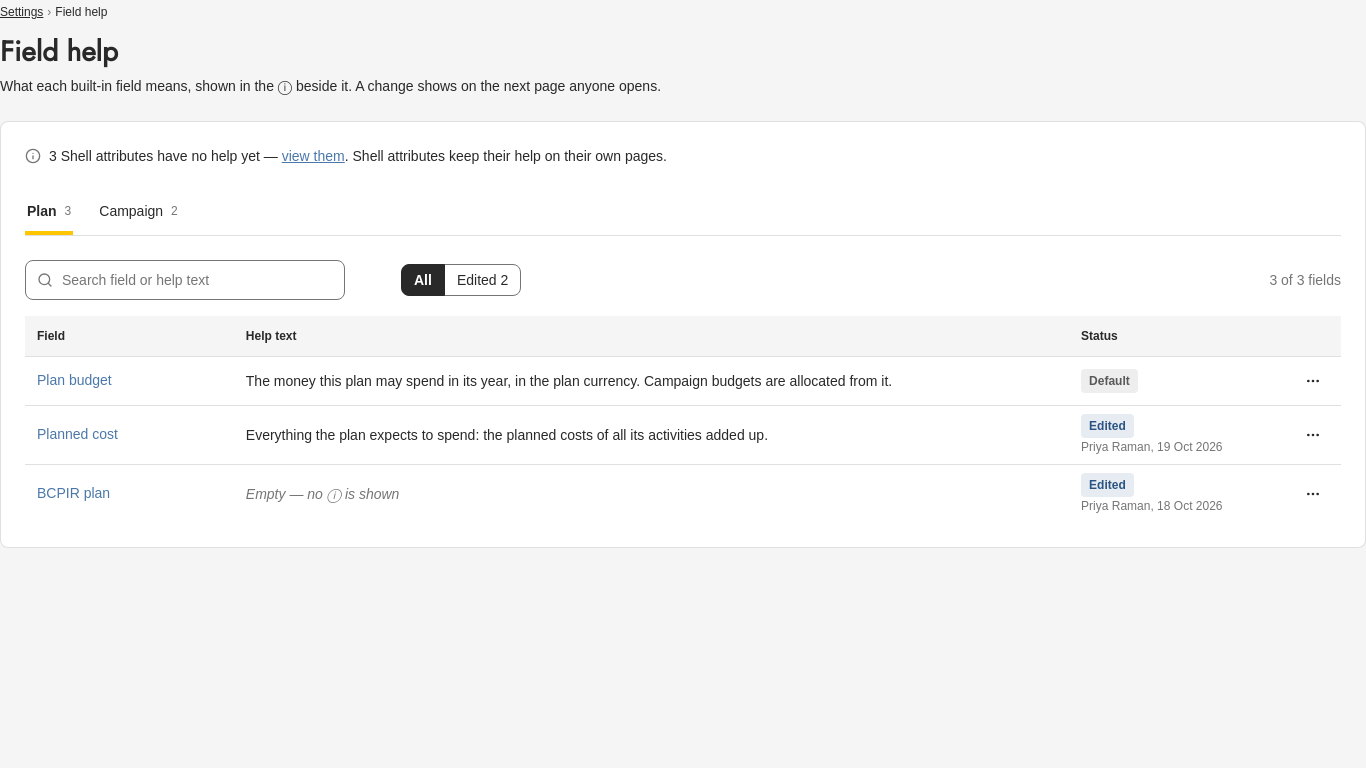
Scenario: FieldHelpPage: edit and reset (016 FR-046) › resets an edited text to the default after asking (US7-3)
expect the table is shown: met, box [25,316,1341,522]
Click the button named "Actions for Planned cost" at (1313, 434), box [1297,418,1329,450]
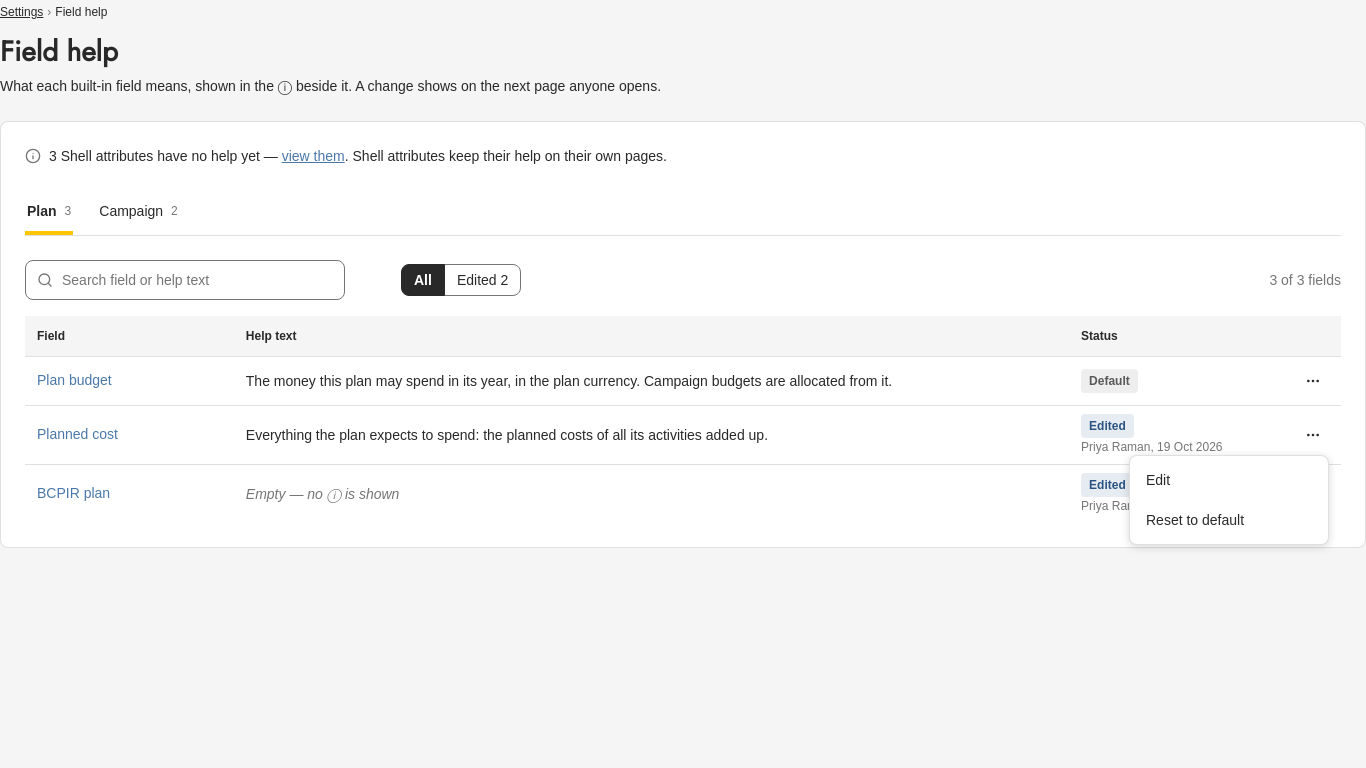
Click the menu item "Reset to default" at (1195, 520), box [1146,512,1244,528]
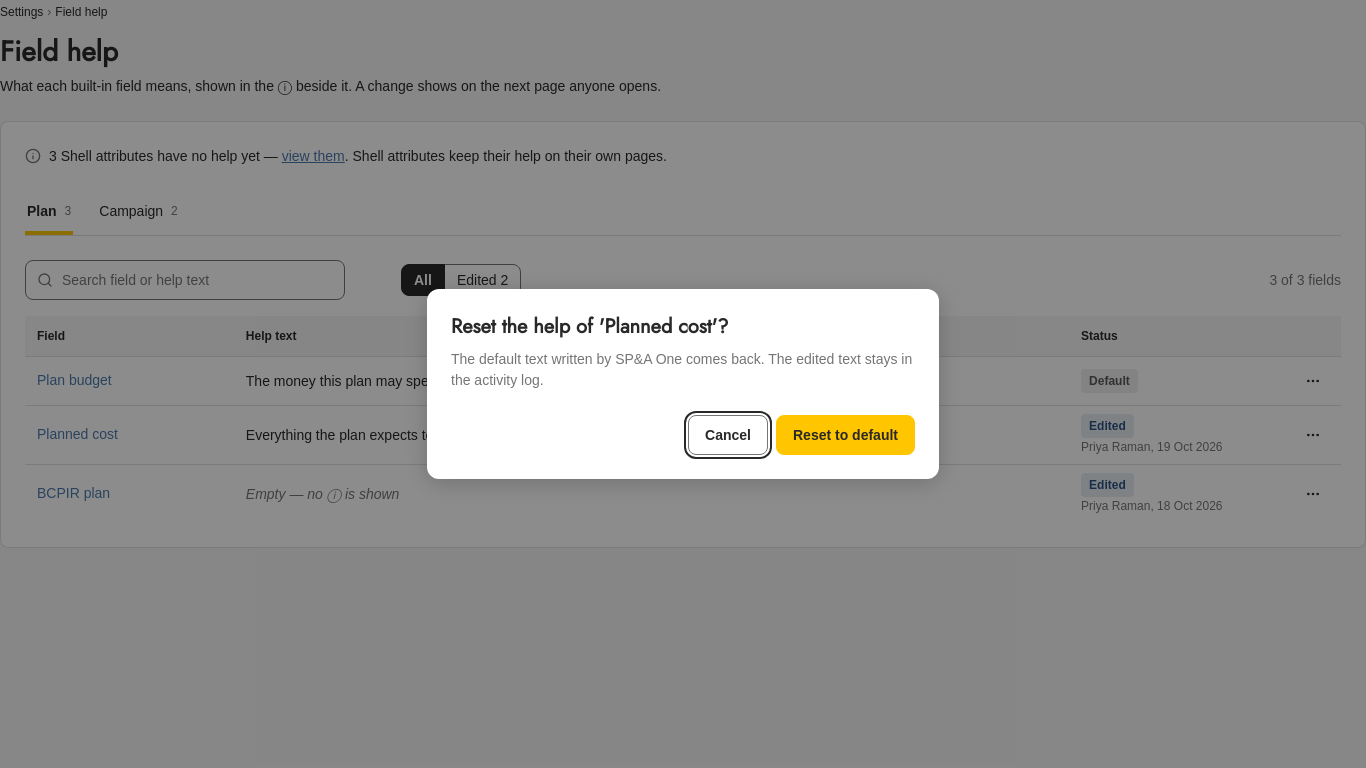
Click the button "Reset to default" at (846, 435), box [776,415,915,455]
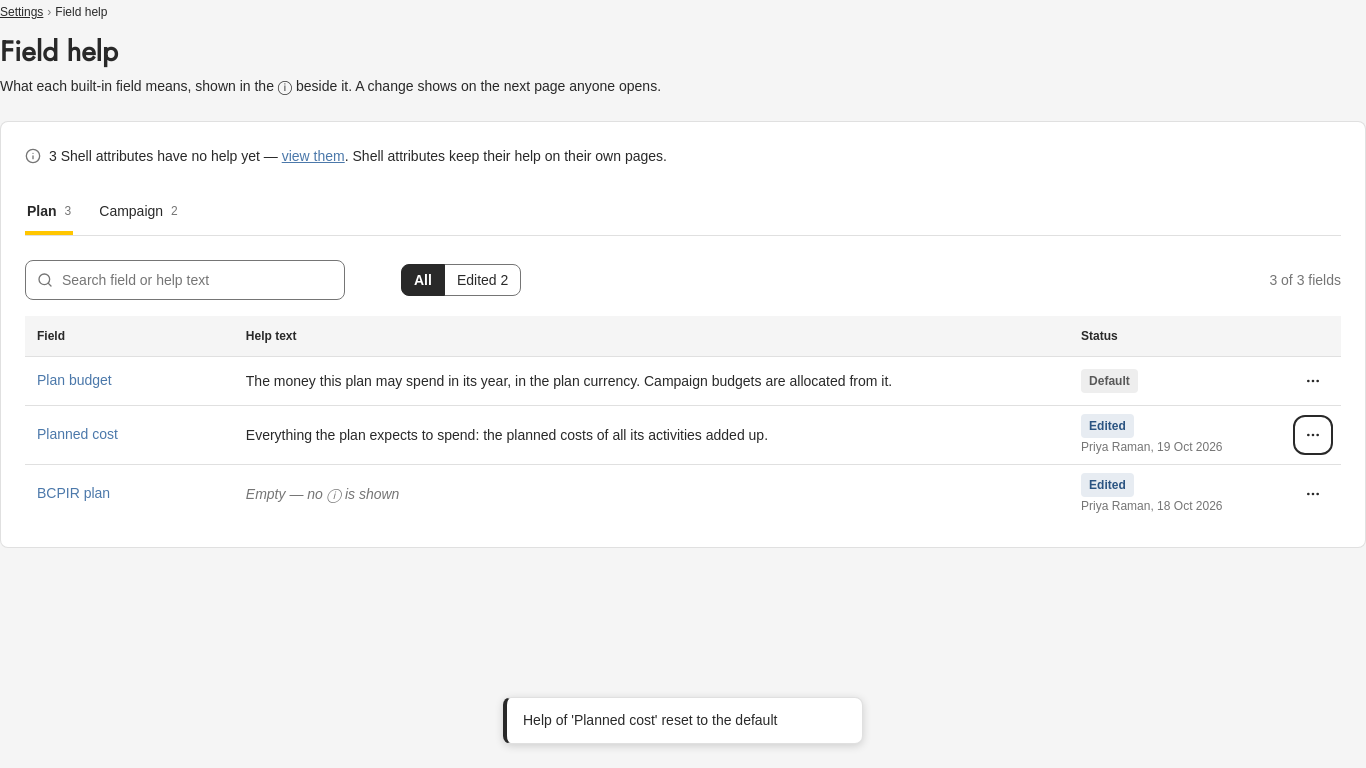
expect the text "Help of 'Planned cost' reset to the default" is shown: met, box [523,712,777,728]
